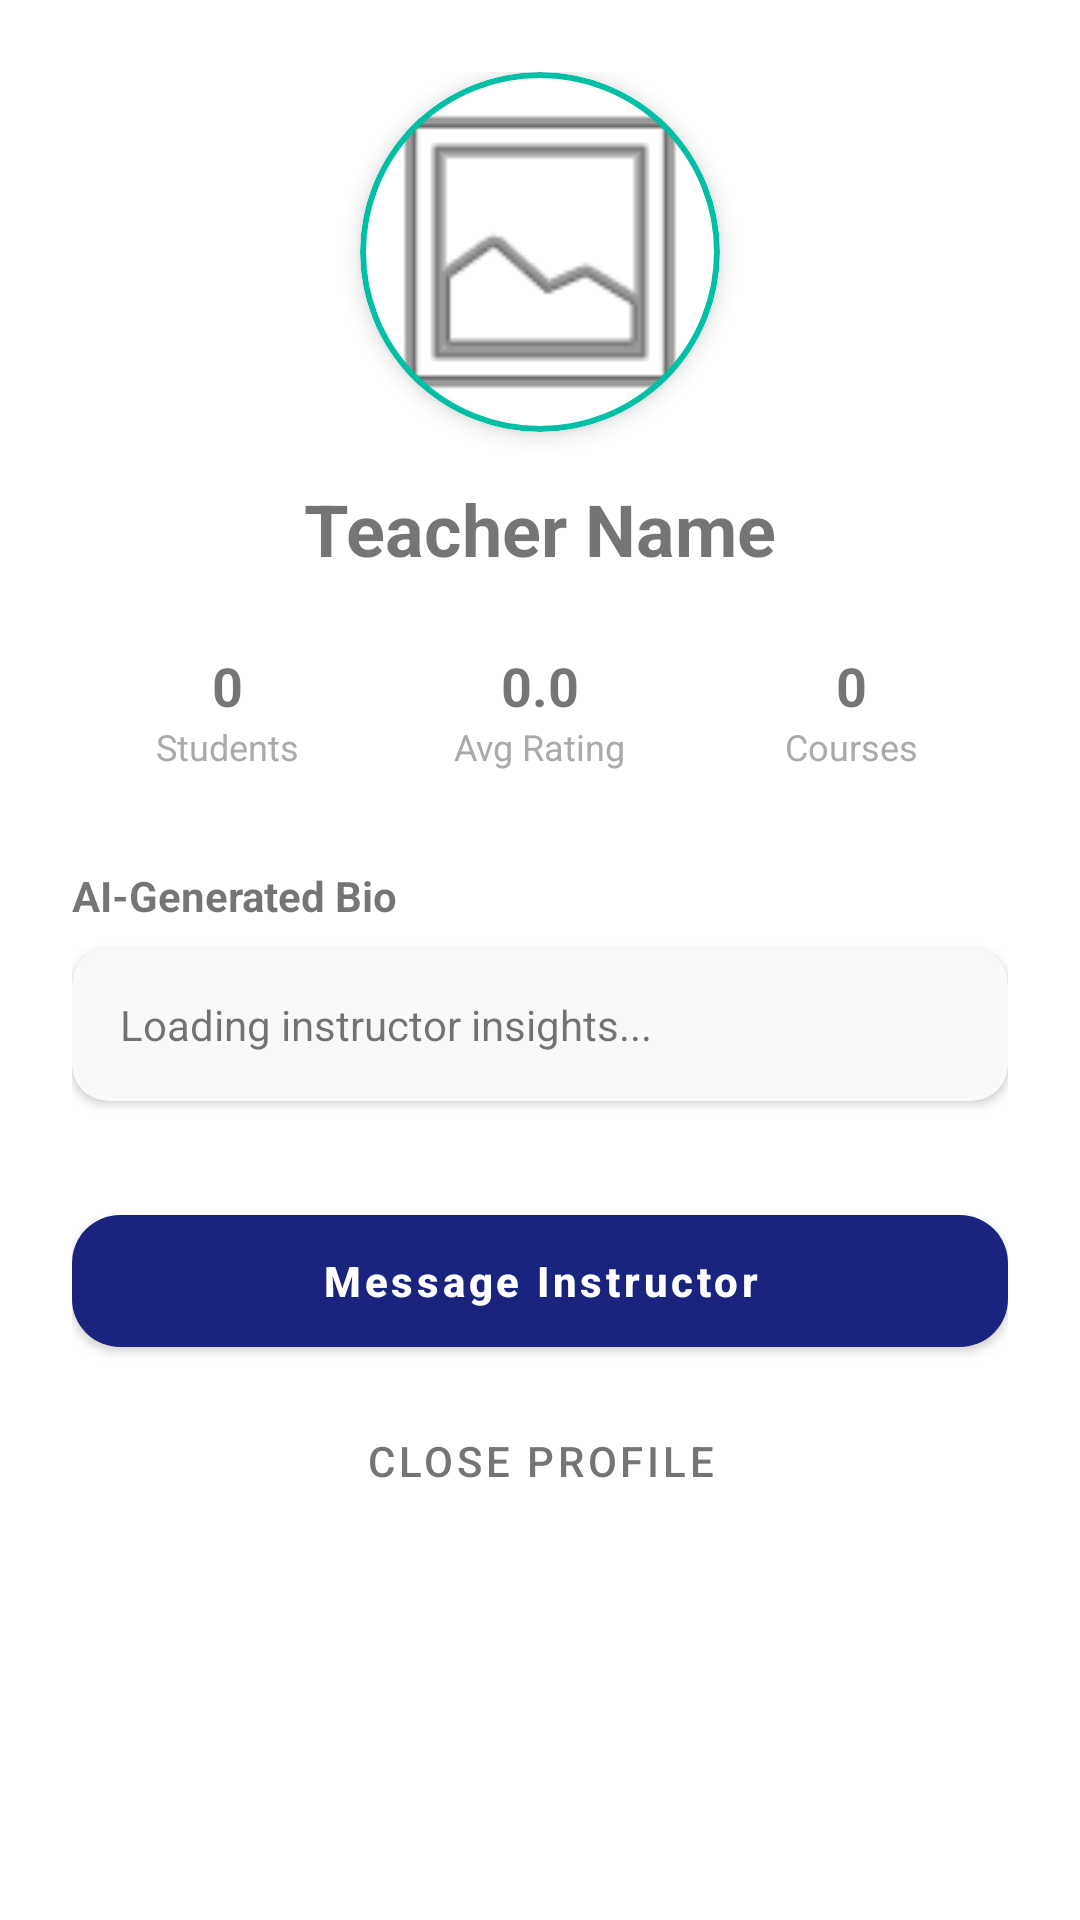

Icons on this 1080px x 1920px Android screen, each with the point to tap as point (x, y):
gallery: point (540, 252)
